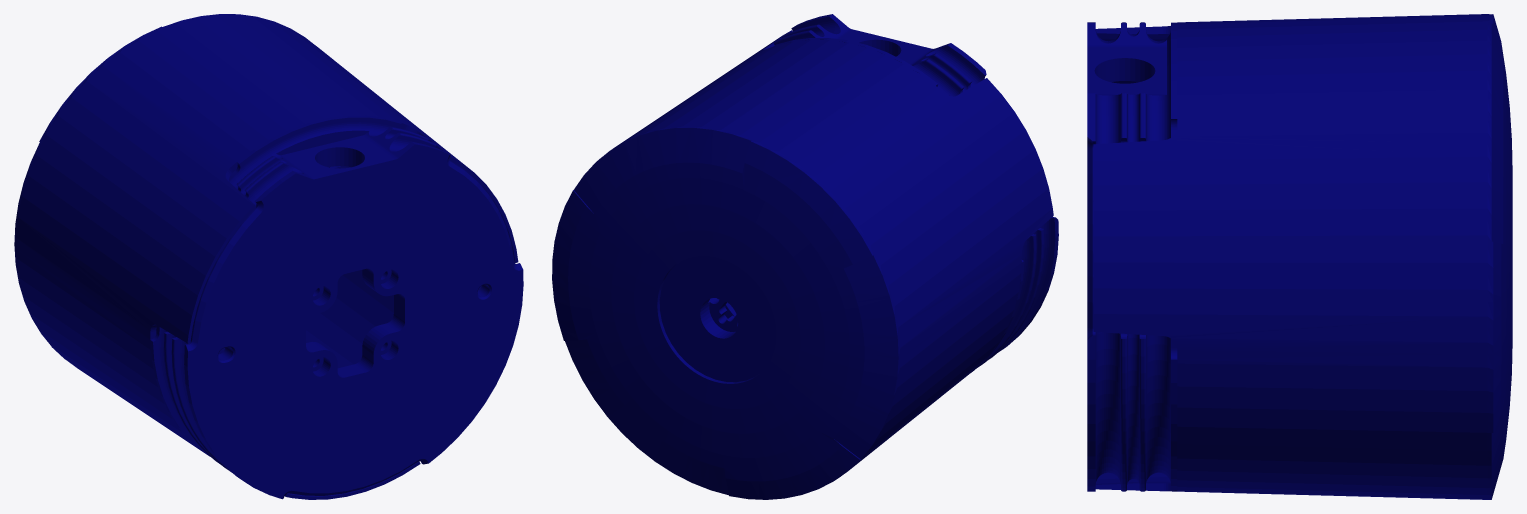
File: pandar40.dae
3 views of the same model, side by side, from view 1: azimuth 30°, elevation 25°; view 2: azimuth 150°, elevation 25°; view 3: azimuth 270°, elevation 25° (orthographic). The views are drawn at different scales.
Visible parts, largest first — view 1: S_solid_1-12; view 2: S_solid_1-12; view 3: S_solid_1-12.
Boxes of the visible parts, x1,y1,x2,y2 form: S_solid_1-12: (14, 14, 523, 499); S_solid_1-12: (552, 14, 1058, 499); S_solid_1-12: (1087, 14, 1512, 499).
Bounding box in the file's own units: 0.0966 × 0.0966 × 0.0846.
